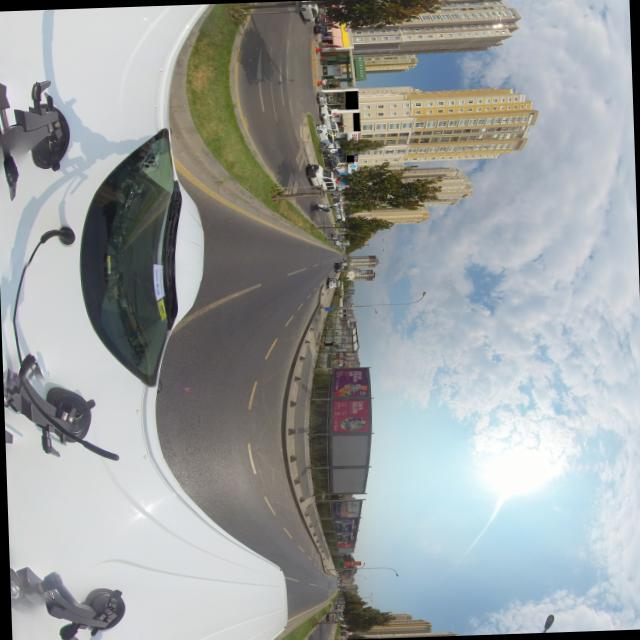SignStore: (344, 91, 357, 109), (352, 112, 359, 131), (345, 155, 353, 162)
